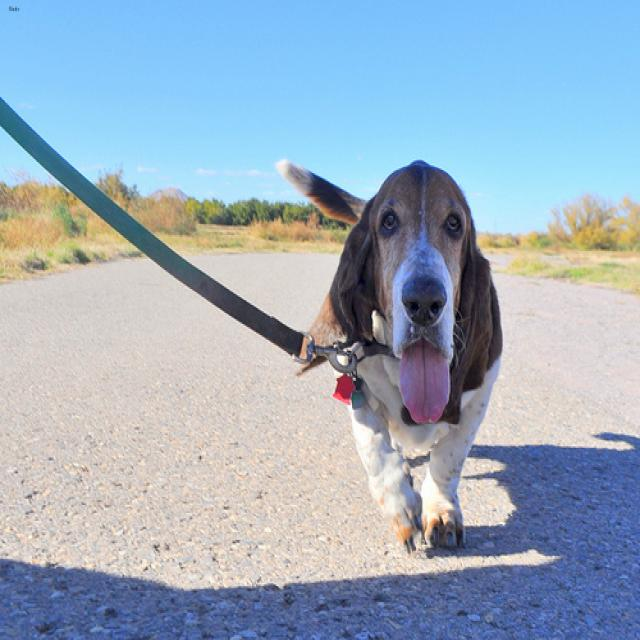dog-basset_hound: (274, 152, 507, 569)
